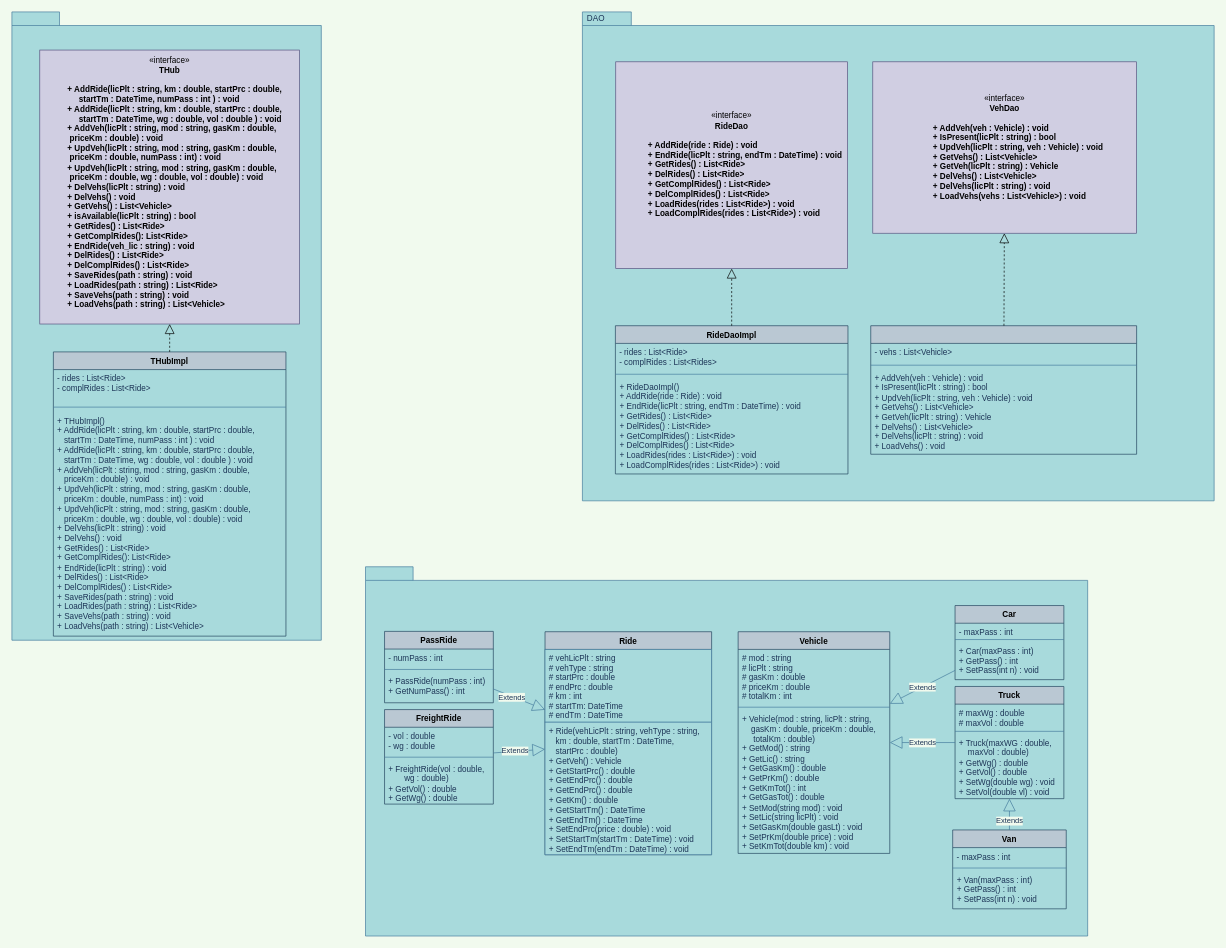
This 1226x948 diagram has some shape labels left out. The box of each missing label's shape, as (x1, y1, x2, y2) in pixels:
Controller: (11, 11, 321, 640)
Model: (365, 566, 1088, 936)
VehDaoImpl: (870, 325, 1137, 454)
